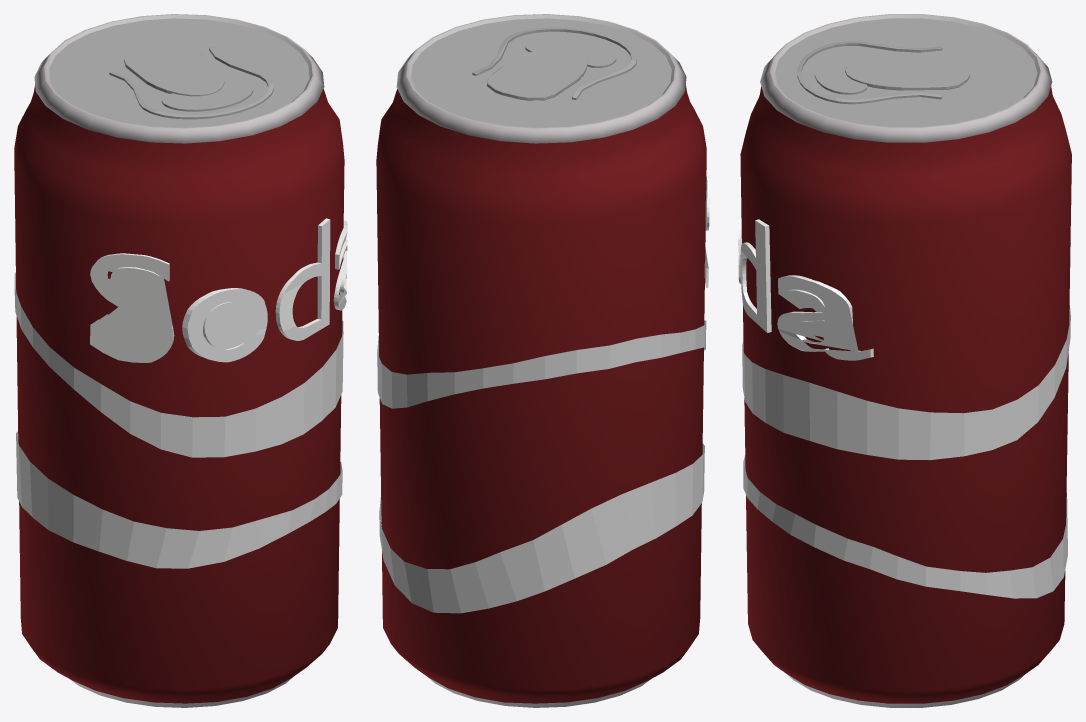
Rendered from Goke.fbx.
3 renders of one model, left to right at view 1: azimuth 30°, elevation 25°; view 2: azimuth 150°, elevation 25°; view 3: azimuth 270°, elevation 25°, orthographic.
Visible parts, largest first — view 1: Text; view 2: Text; view 3: Text.
Boxes of the visible parts, x1,y1,x2,y2 form: Text: (14, 14, 347, 707); Text: (376, 14, 709, 707); Text: (738, 14, 1071, 707).
Bounding box in the file's own units: 185 × 187 × 364.
